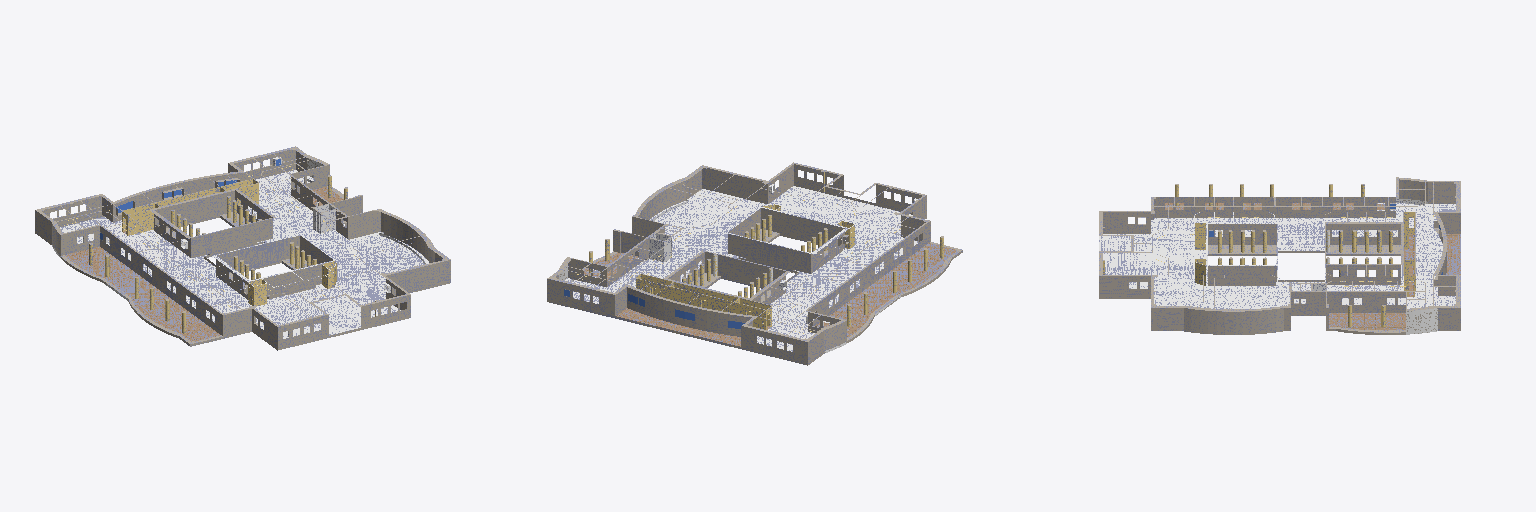
3 renders of one model, left to right at view 1: azimuth 30°, elevation 25°; view 2: azimuth 150°, elevation 25°; view 3: azimuth 270°, elevation 25°, orthographic.
Parts seen in each view (by area): view 1: Mesh71 Model; view 2: Mesh71 Model; view 3: Mesh71 Model.
Part boxes in pixels (left/top/right/bottom): Mesh71 Model: left=35, top=146, right=450, bottom=350; Mesh71 Model: left=547, top=162, right=962, bottom=365; Mesh71 Model: left=1099, top=177, right=1460, bottom=334.
Size of the model in its own units: 41.39 by 3.35 by 46.81.
Materials: 7 (1 with a texture image).